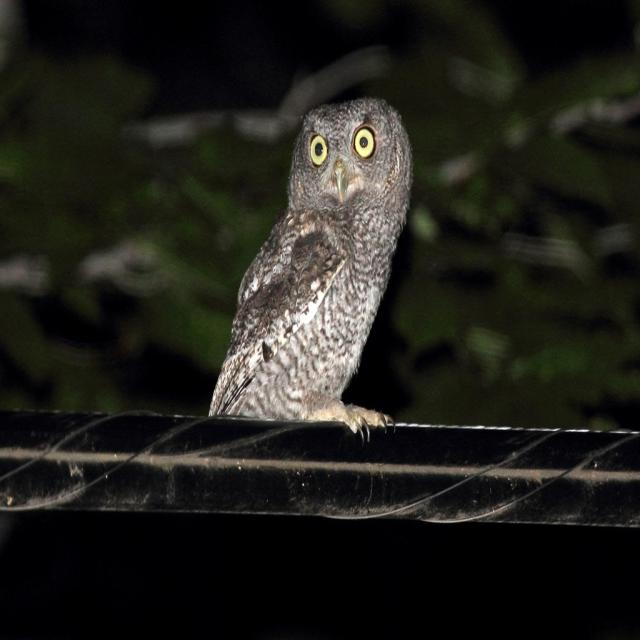bird: (224, 107, 416, 450)
